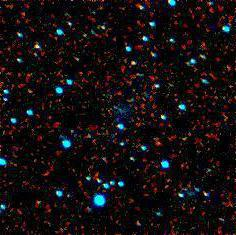star: (144, 127, 174, 157)
